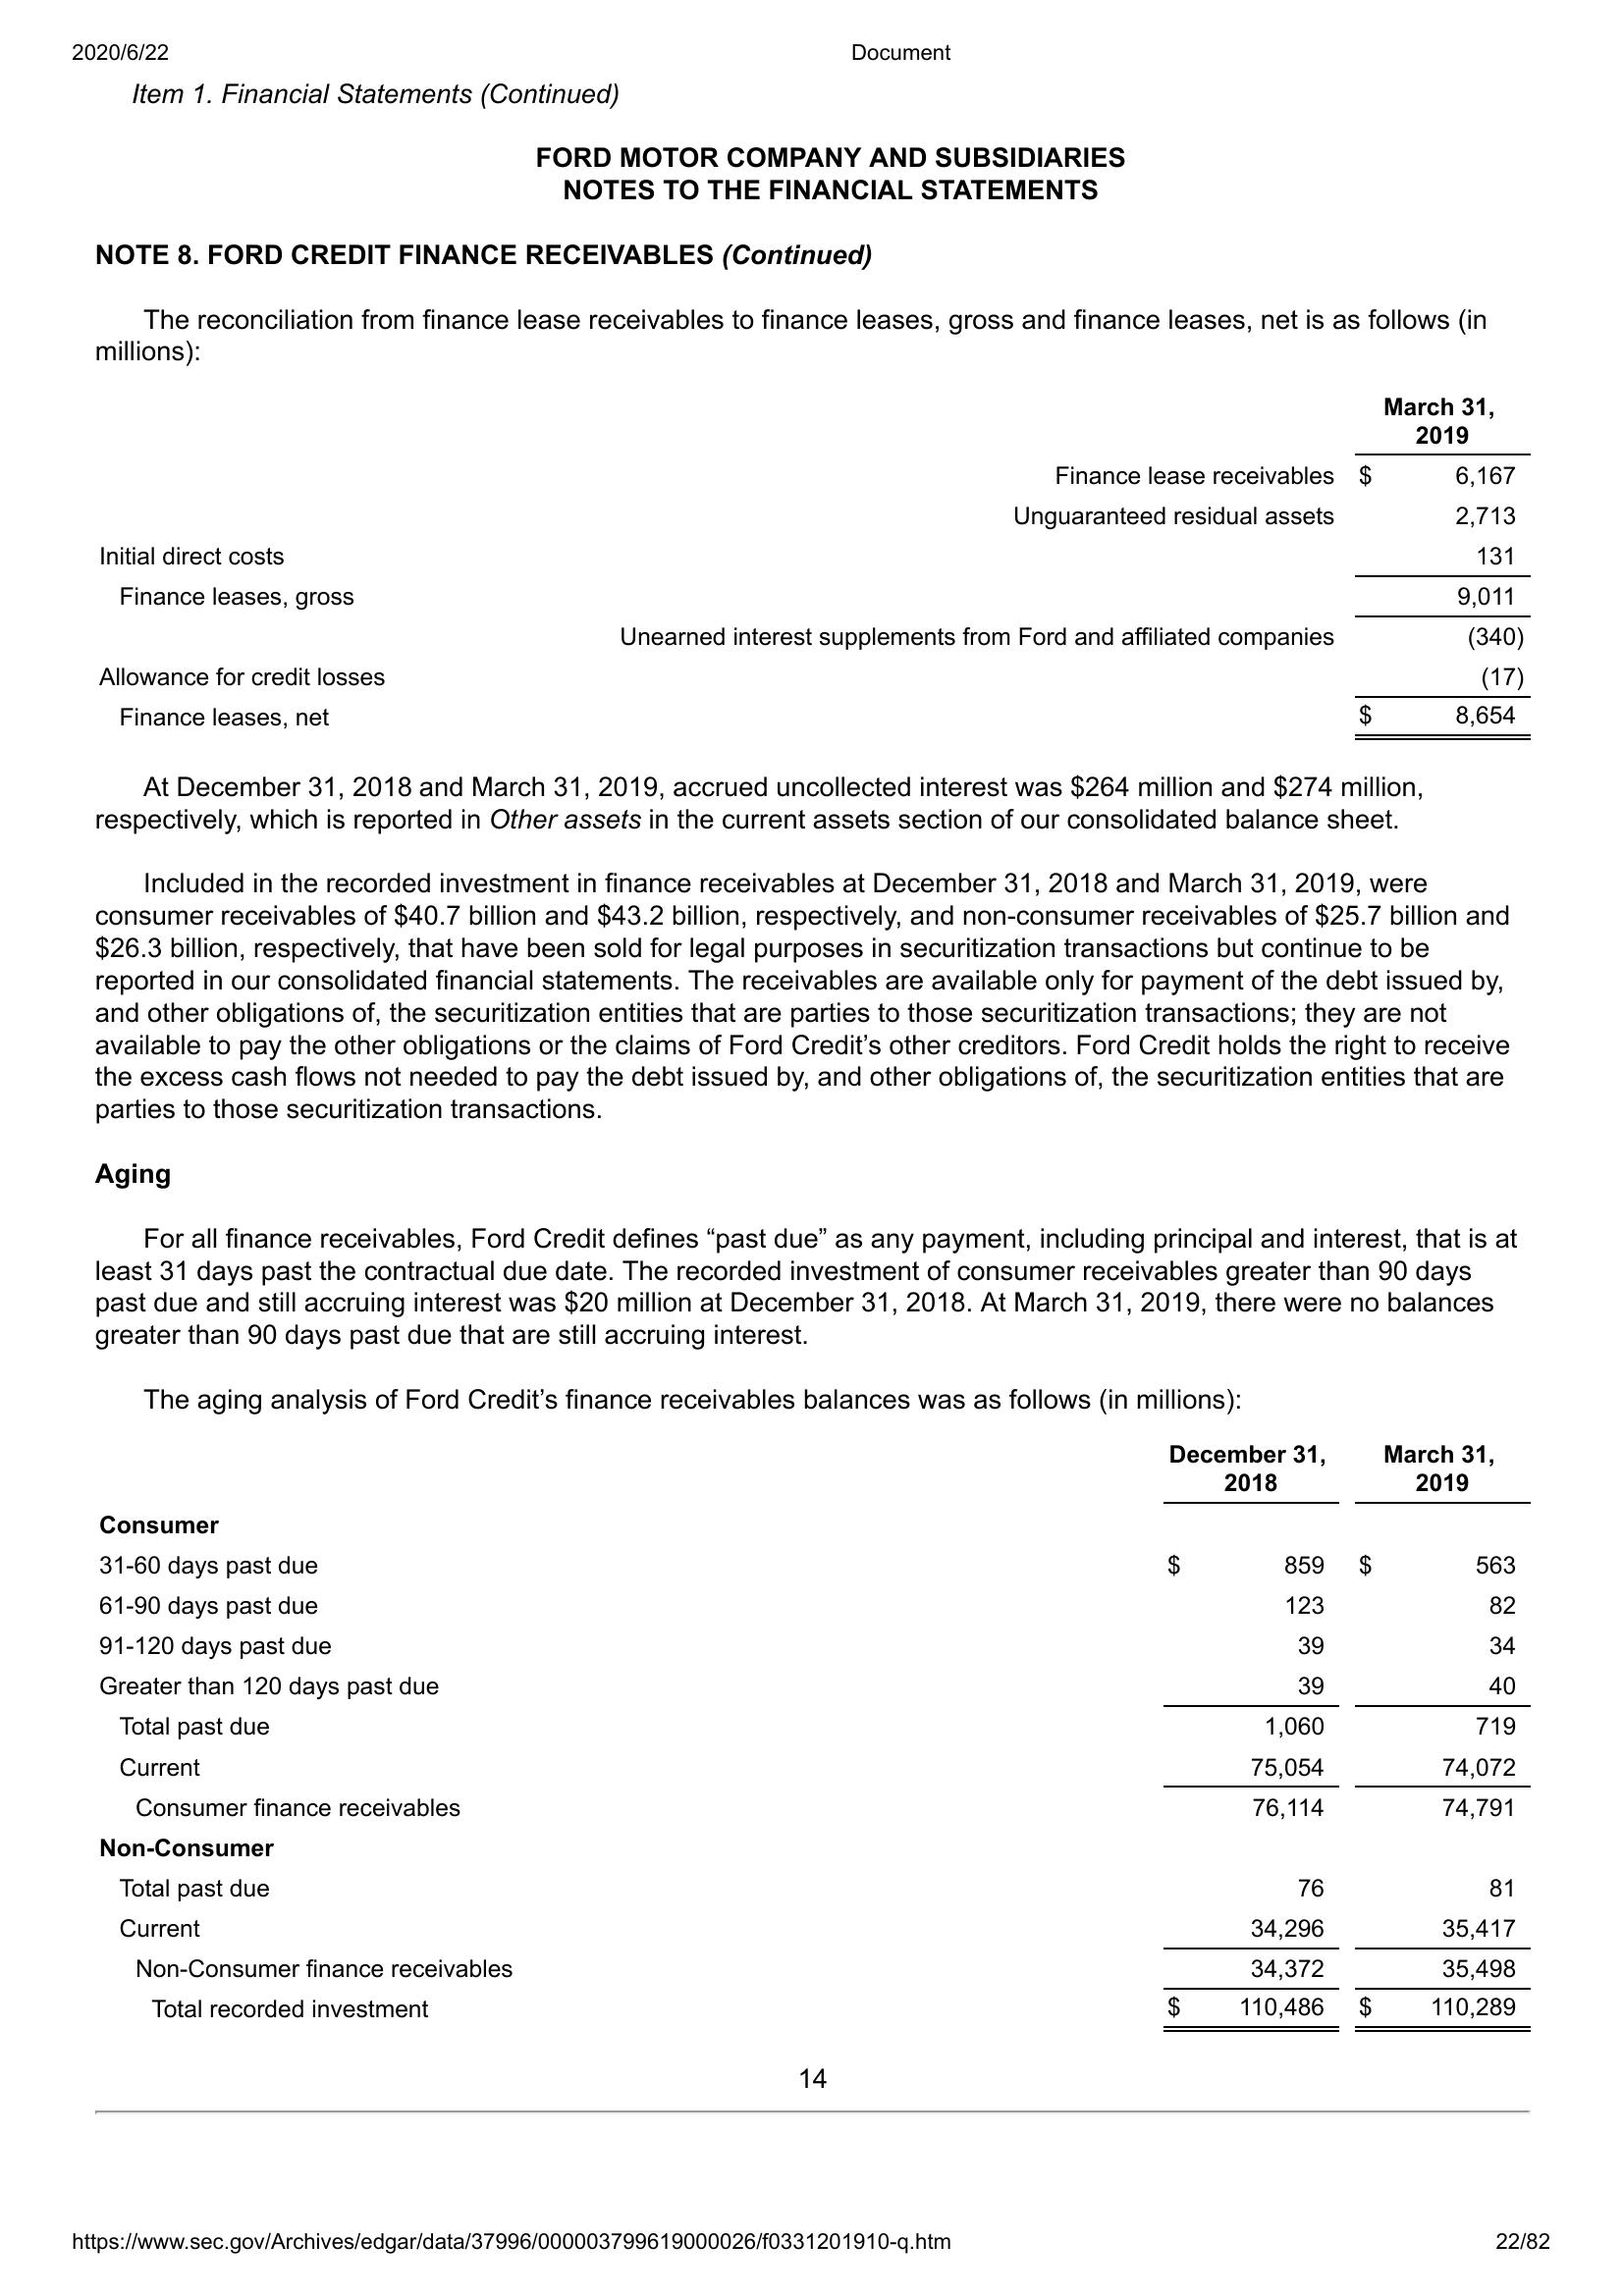table: (77, 1438, 1535, 1831), (90, 386, 1539, 744), (84, 1831, 1535, 2041)
